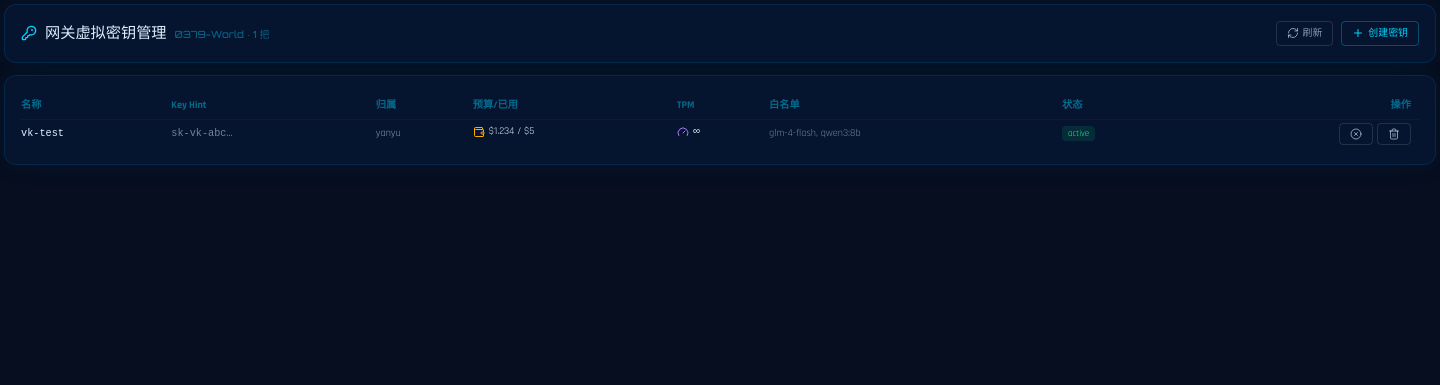
Test: GatewayKeysPanel › 创建失败应展示后端 detail
The image size is (1440, 385).
Expected: the text "vk-test" is shown, [21, 120, 171, 148]
Click the button "创建密钥" at [1380, 33], box [1341, 21, 1419, 46]
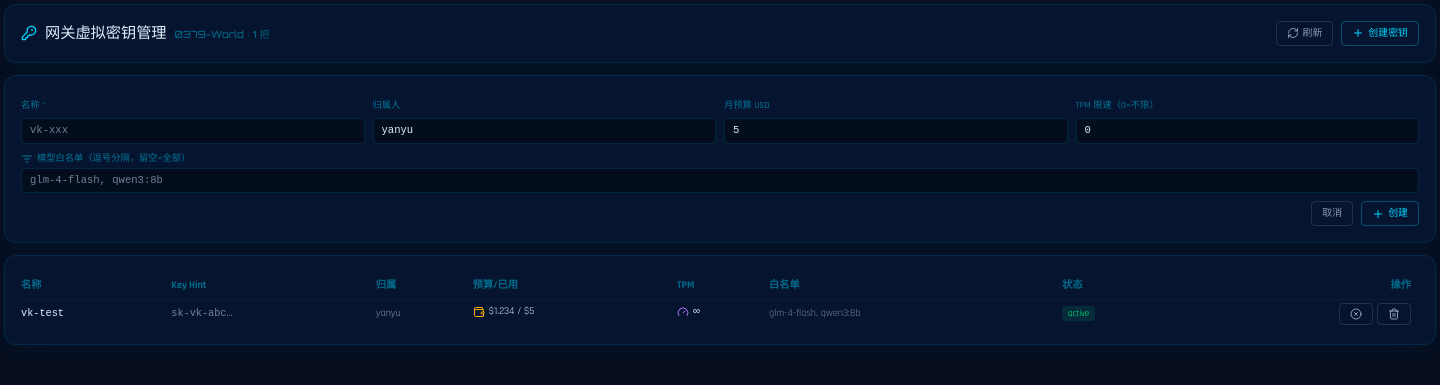
Type "vk-dup" into the field with placeholder "vk-xxx" at [193, 131], box [21, 118, 364, 144]
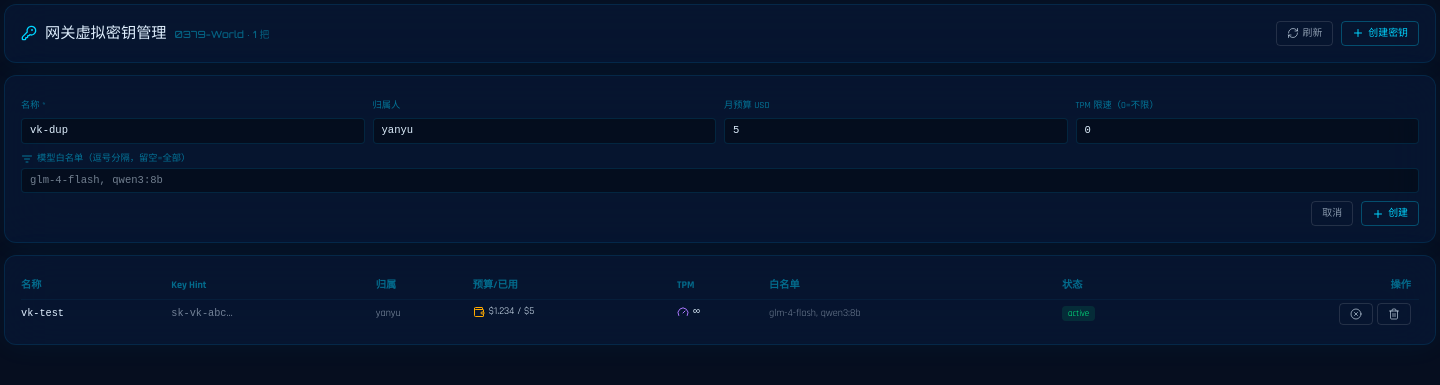
Click the button "创建" at [1390, 214], box [1361, 201, 1419, 226]
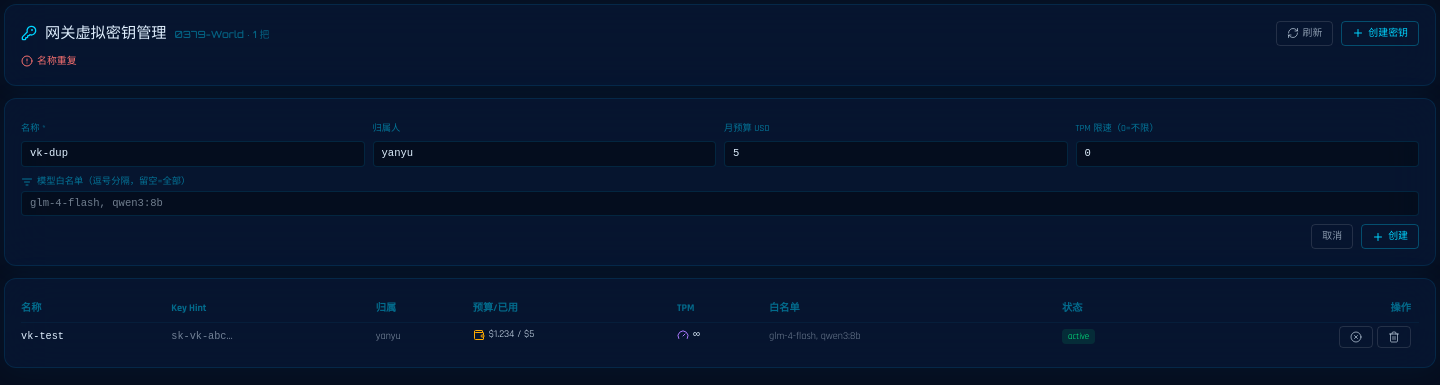
Result: the text "名称重复" is shown at [21, 55, 77, 67]
